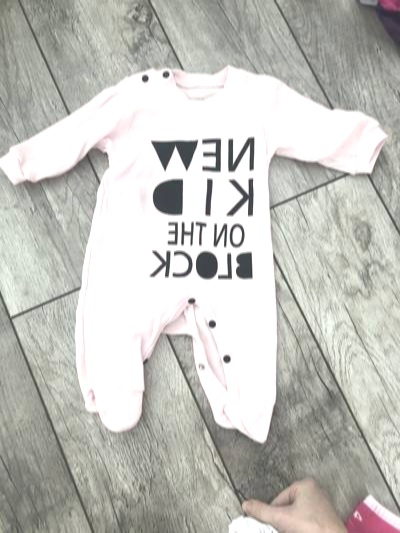Body: (0, 53, 394, 445)
